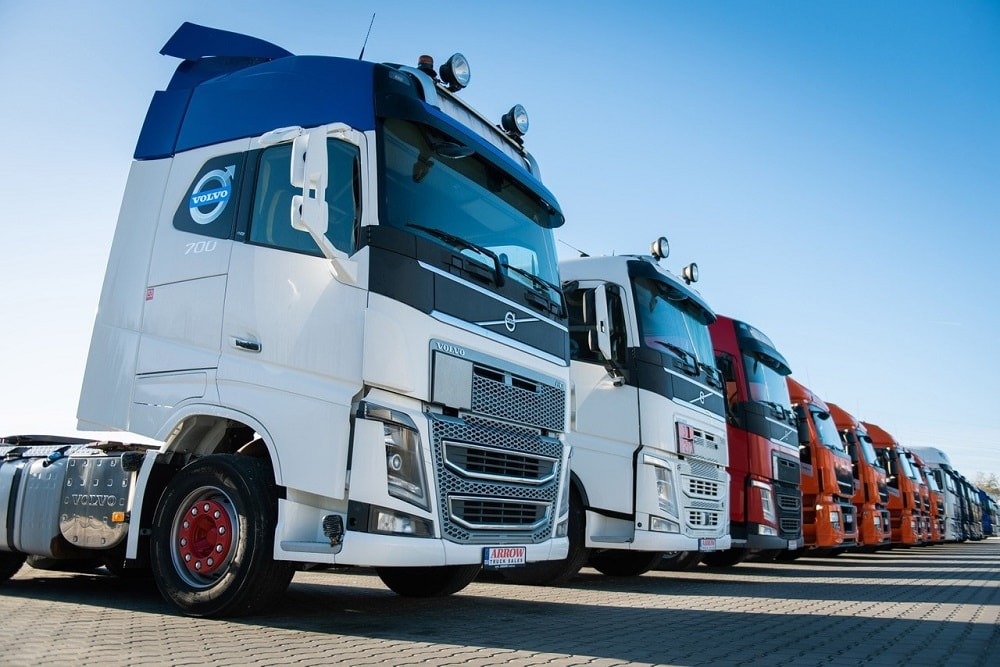Truck: (89, 50, 574, 634), (563, 260, 733, 579)
